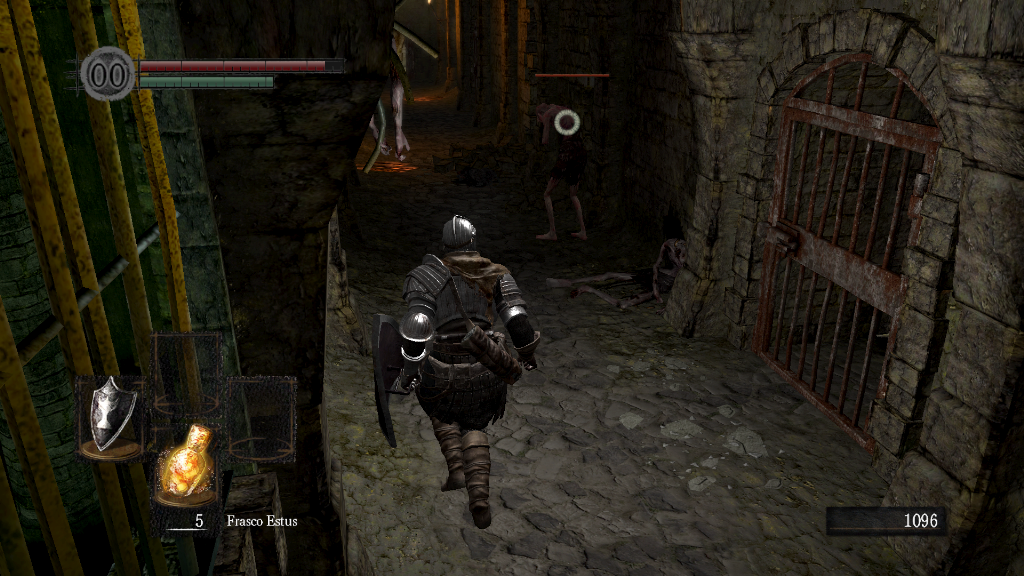health: (138, 58, 343, 71)
hollow: (534, 98, 591, 245)
humanity: (80, 45, 136, 102)
player: (369, 213, 544, 527)
souls: (825, 506, 945, 536)
stamina: (138, 74, 274, 88)
